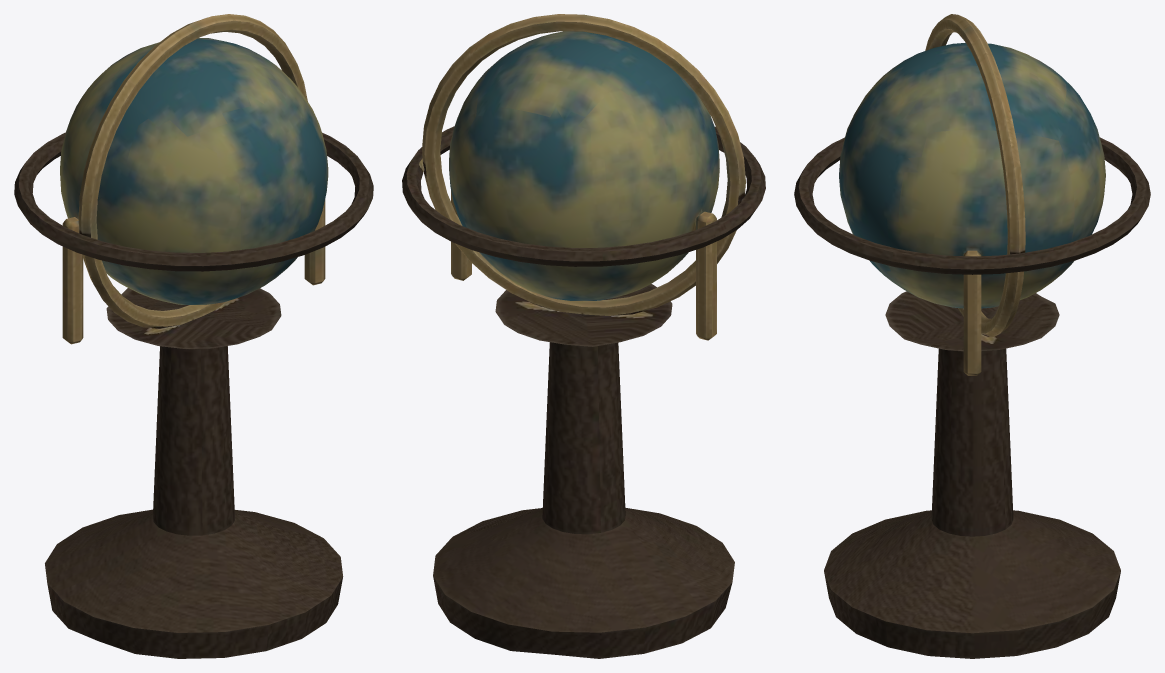
Rendered from globe.glb.
The picture shows the model from 3 angles, left to right: view 1: azimuth 30°, elevation 25°; view 2: azimuth 150°, elevation 25°; view 3: azimuth 270°, elevation 25°; orthographic projection. The views are drawn at different scales.
Visible parts, largest first — view 1: globe; view 2: globe; view 3: globe.
Part boxes in pixels (x1,y1,x2,y2): globe: (14,14,373,658); globe: (402,14,765,658); globe: (794,14,1150,658).
Bounding box in the file's own units: 0.696 × 1.23 × 0.696.
Materials: 1 (1 with a texture image).
